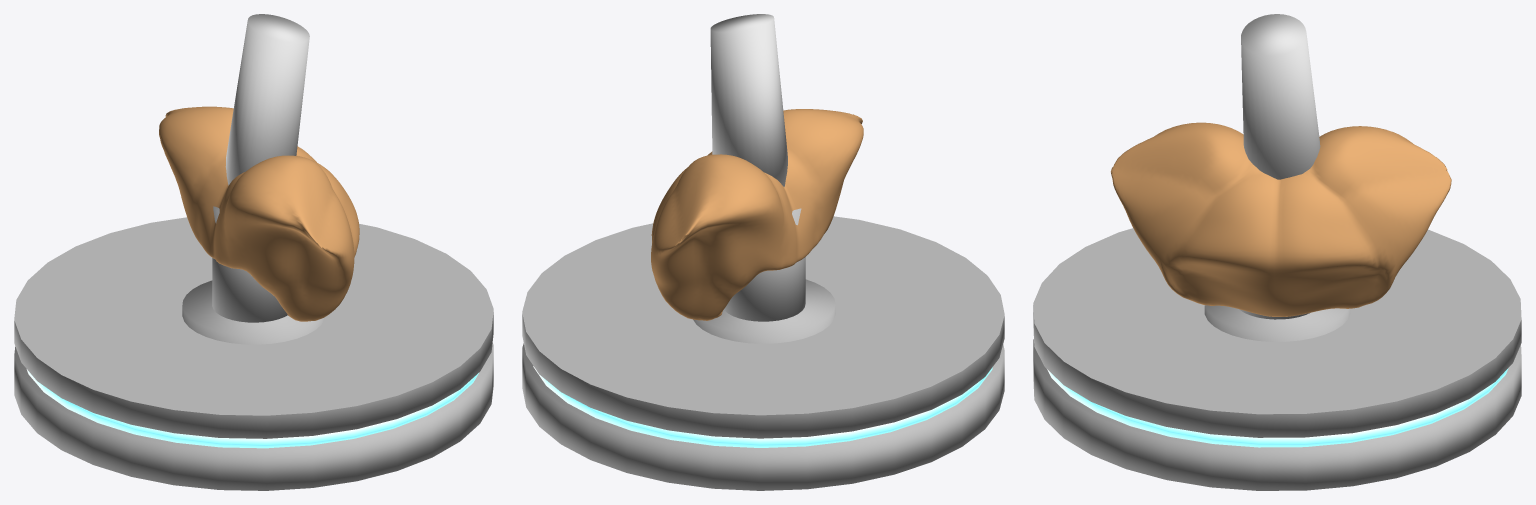
File: robot_platform.001 - Copy.fbx
3 renders of one model, left to right at view 1: azimuth 30°, elevation 25°; view 2: azimuth 150°, elevation 25°; view 3: azimuth 270°, elevation 25°, orthographic.
Parts seen in each view (by area): view 1: robot_platform.001; view 2: robot_platform.001; view 3: robot_platform.001.
Part boxes in pixels (x1,y1,x2,y2): robot_platform.001: (14, 14, 493, 490); robot_platform.001: (522, 14, 1004, 490); robot_platform.001: (1033, 14, 1521, 490).
Size of the model in its own units: 0.554 by 0.4659 by 0.554.
